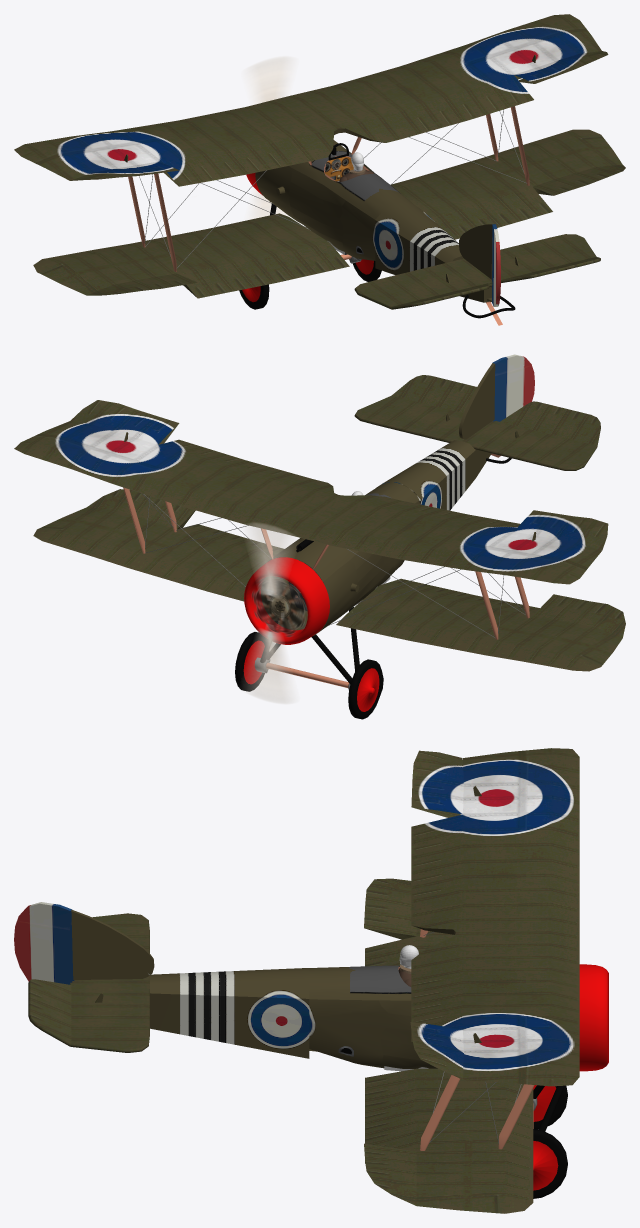
Rendered from pup_int.glb.
3 views of the same model, one above another, from view 1: azimuth 30°, elevation 25°; view 2: azimuth 150°, elevation 25°; view 3: azimuth 270°, elevation 25° (orthographic). The views are drawn at different scales.
Visible parts, largest first — view 1: fuselage, anm_propeller, anm_wingBR, anm_tailHE, anm_wingTR, anm_wingBL, fuselage_wires, anm_wingTL, cockpit, anm_tailVR; view 2: fuselage, anm_propeller, anm_tailHE, fuselage_cowl, anm_wingTR, anm_wingTL, engine, anm_tailVR, anm_wingBL, anm_wingBR, fuselage_wires; view 3: fuselage, anm_tailVR, fuselage_cowl, anm_wingTL, anm_wingBL, anm_wingBR, anm_tailHE, anm_wingTR.
Part boxes in pixels (x1,y1,x2,y2): fuselage: (14, 14, 622, 325); anm_propeller: (246, 56, 293, 219); anm_wingBR: (533, 164, 625, 195); anm_tailHE: (391, 257, 600, 309); anm_wingTR: (514, 51, 608, 83); anm_wingBL: (87, 273, 197, 295); fuselage_wires: (139, 109, 526, 268); anm_wingTL: (70, 161, 179, 180); cockpit: (304, 143, 353, 254); anm_tailVR: (492, 224, 500, 306); fuselage: (14, 363, 622, 719); anm_propeller: (245, 523, 294, 703); anm_tailHE: (392, 375, 600, 446); fuselage_cowl: (244, 557, 329, 644); anm_wingTR: (70, 400, 179, 444); anm_wingTL: (514, 510, 608, 550); engine: (251, 577, 307, 636); anm_tailVR: (492, 354, 534, 421); anm_wingBL: (533, 594, 625, 637); anm_wingBR: (87, 489, 195, 529); fuselage_wires: (142, 493, 525, 638); fuselage: (70, 748, 579, 1213); anm_tailVR: (14, 902, 74, 984); fuselage_cowl: (579, 964, 608, 1071); anm_wingTL: (411, 750, 463, 817); anm_wingBL: (364, 878, 416, 939); anm_wingBR: (364, 1143, 416, 1205); anm_tailHE: (28, 979, 71, 1046); anm_wingTR: (410, 1022, 463, 1079).
Bounding box in the file's own units: 8.15 × 2.9 × 6.18.
18 materials, 8 textured.
